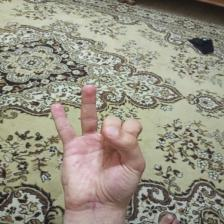five: (42, 81, 148, 218)
